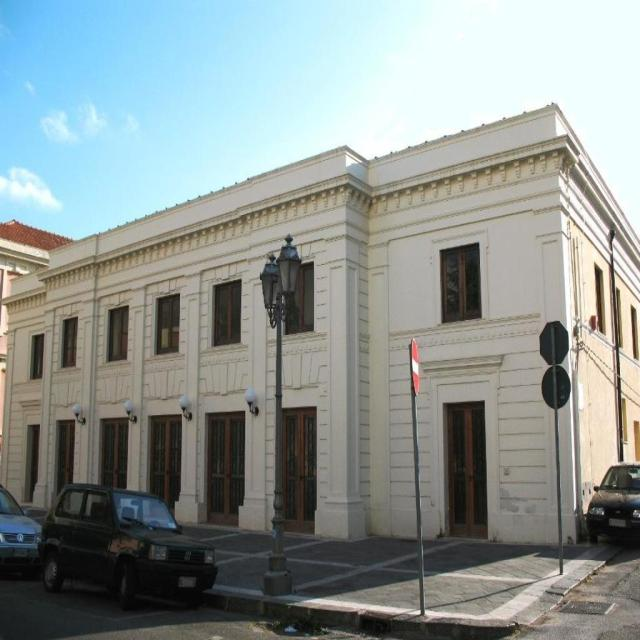car: (28, 484, 213, 612), (586, 461, 638, 542), (0, 487, 41, 565)
